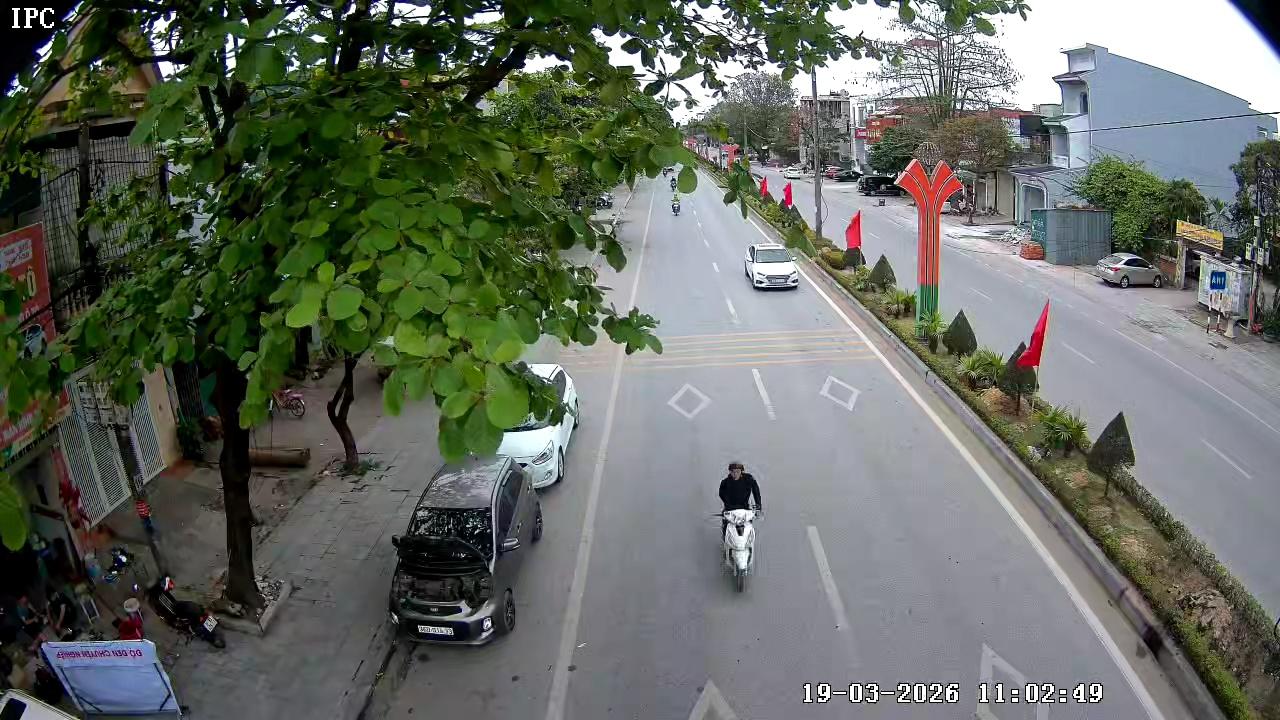car: (387, 454, 544, 647), (434, 357, 582, 490), (1092, 250, 1166, 290), (743, 241, 802, 291)
motorbike: (714, 458, 766, 595), (669, 190, 683, 217)
